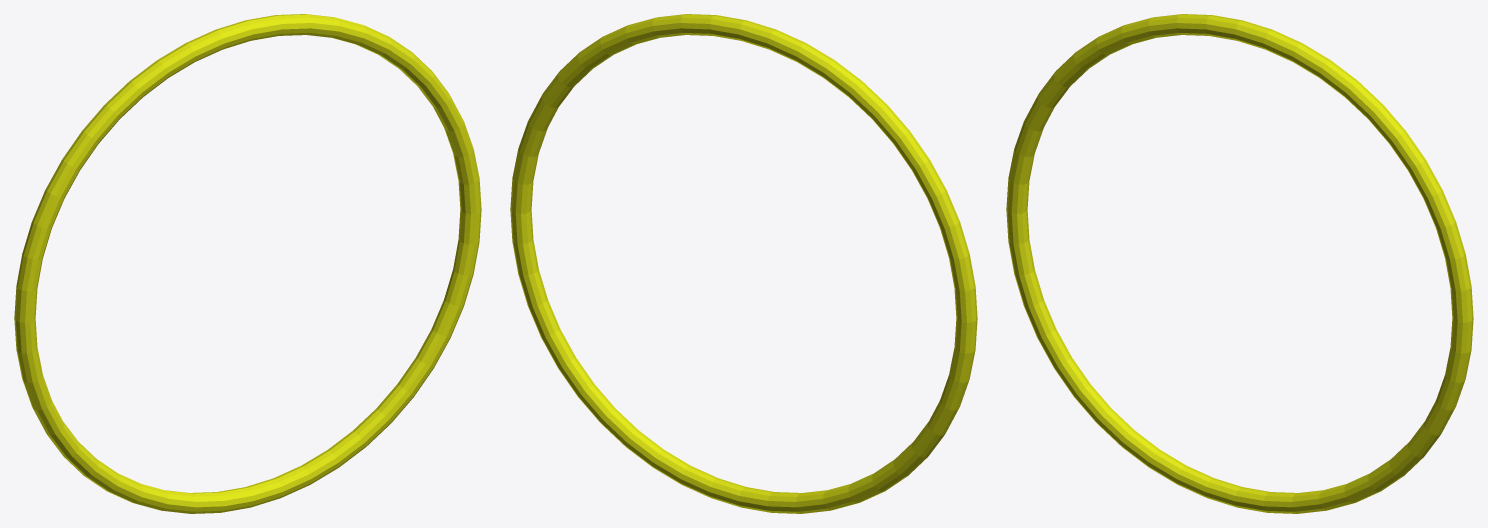
Rendered from hoop_model.fbx.
3 views of the same model, side by side, from view 1: azimuth 30°, elevation 25°; view 2: azimuth 150°, elevation 25°; view 3: azimuth 330°, elevation 25° (orthographic).
Visible parts, largest first — view 1: Hoop; view 2: Hoop; view 3: Hoop.
Part boxes in pixels (x1,y1,x2,y2): Hoop: (14, 14, 481, 513); Hoop: (510, 14, 977, 513); Hoop: (1006, 14, 1473, 513).
Bounding box in the file's own units: 1362 × 1362 × 54.
